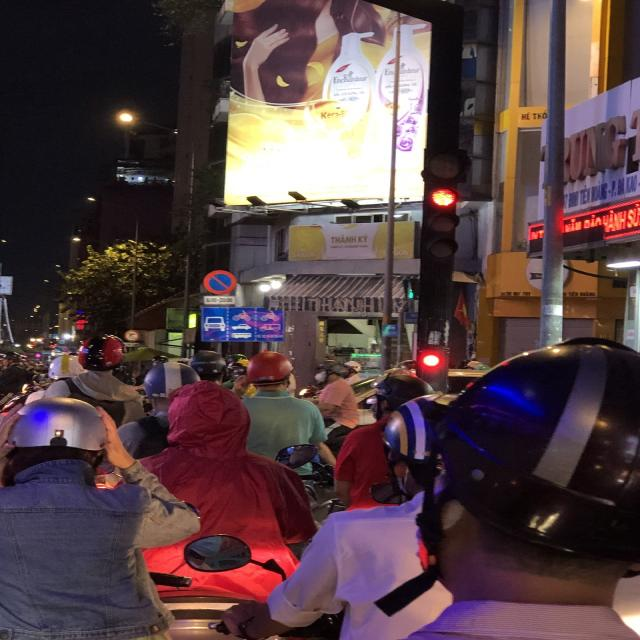Bien bao cam do xe: (200, 266, 239, 297)
